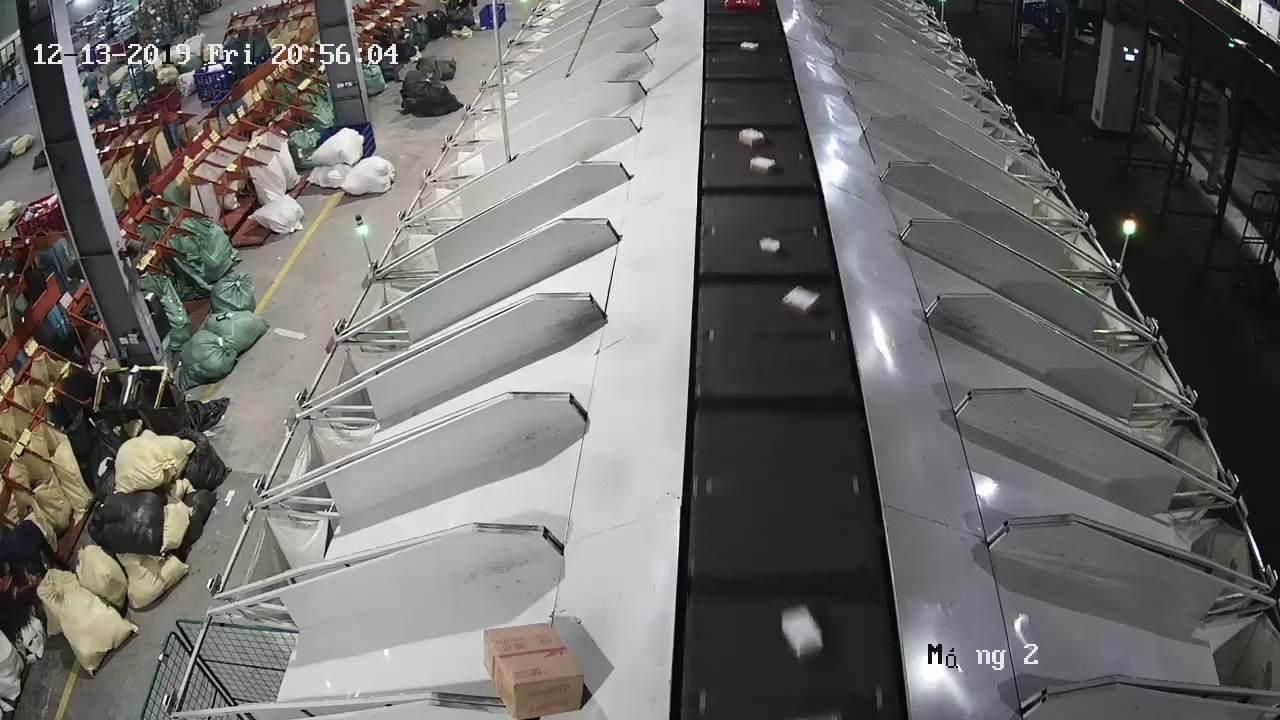parcel: (781, 284, 822, 316)
